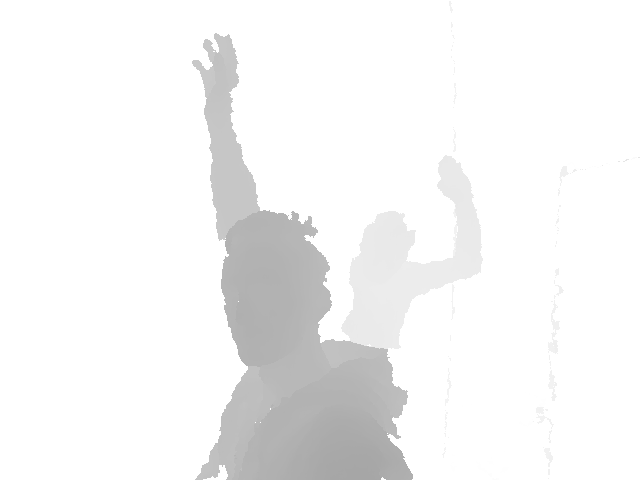hand: (192, 32, 240, 101), (438, 155, 475, 206)
head: (220, 210, 333, 371), (359, 211, 416, 279)
person: (191, 32, 415, 479), (338, 155, 484, 349)
